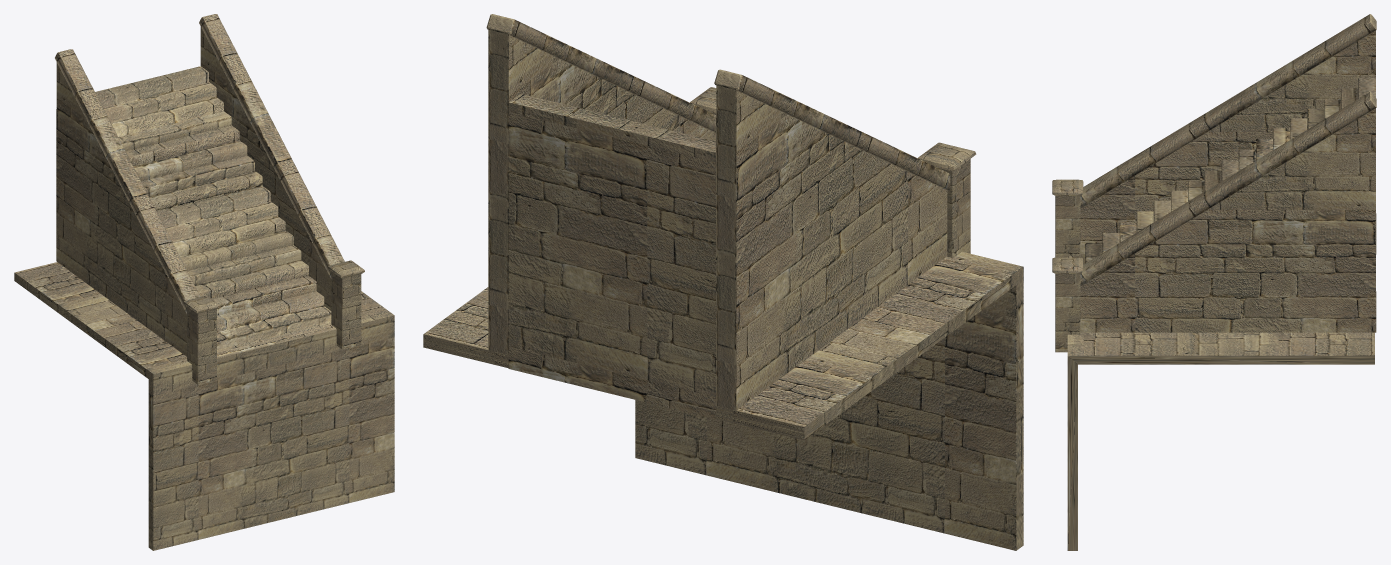
The model's file is Stairs_Stone_Straight.FBX.
3 renders of one model, left to right at view 1: azimuth 30°, elevation 25°; view 2: azimuth 150°, elevation 25°; view 3: azimuth 270°, elevation 25°, orthographic. The views are drawn at different scales.
Visible parts, largest first — view 1: Stairs_Stone_Straight; view 2: Stairs_Stone_Straight; view 3: Stairs_Stone_Straight.
Part boxes in pixels (x1,y1,x2,y2): Stairs_Stone_Straight: (14, 14, 394, 550); Stairs_Stone_Straight: (423, 14, 1023, 550); Stairs_Stone_Straight: (1052, 14, 1376, 550).
Size of the model in its own units: 600 by 922 by 632.
